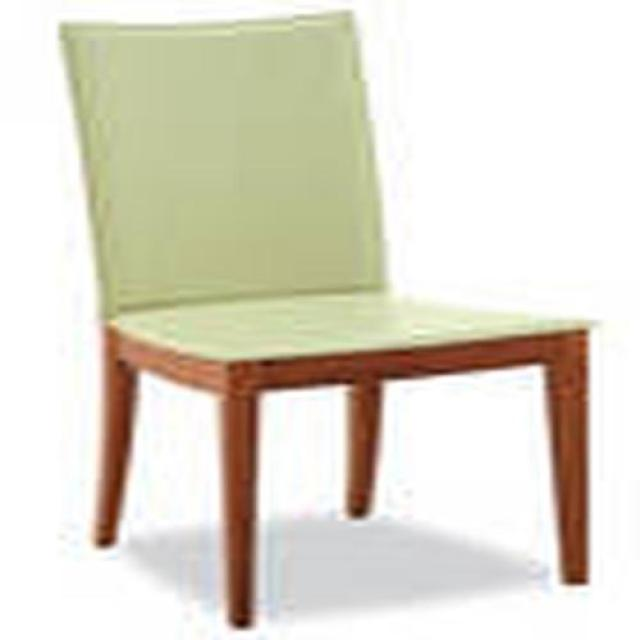chair: (59, 10, 589, 631)
